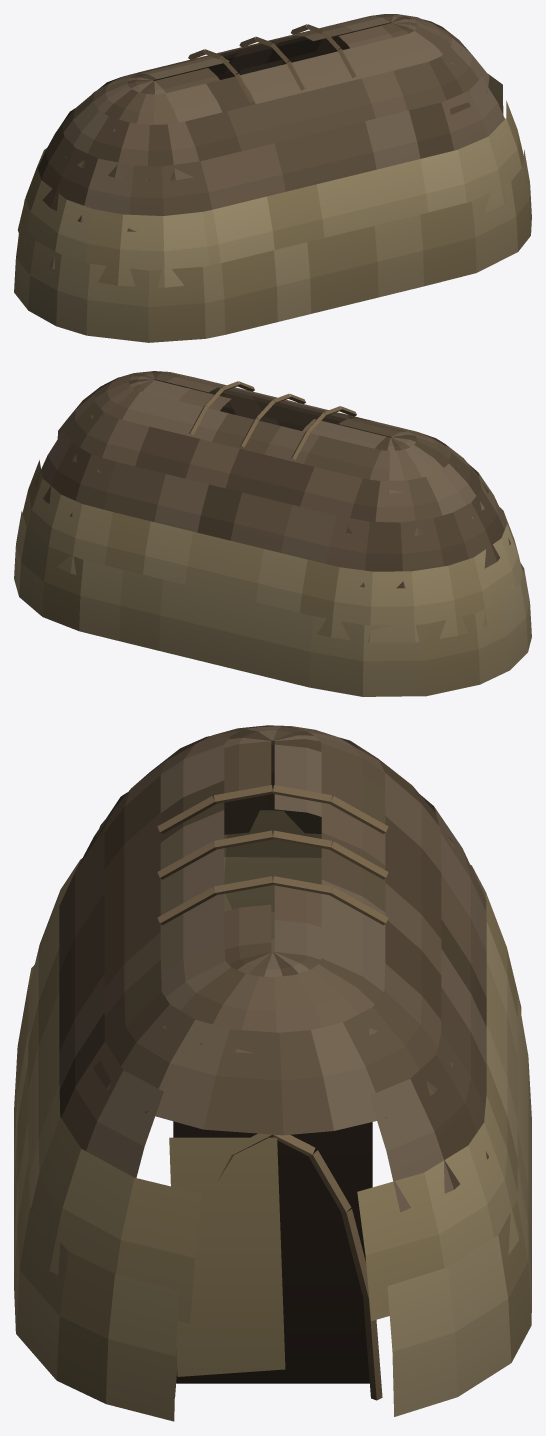
The model's file is yehakin.glb.
The picture shows the model from 3 angles, top to bottom: view 1: azimuth 30°, elevation 25°; view 2: azimuth 150°, elevation 25°; view 3: azimuth 270°, elevation 25°; orthographic projection. The views are drawn at different scales.
Parts seen in each view (by area): view 1: yehakin; view 2: yehakin; view 3: yehakin.
Boxes of the visible parts, x1,y1,x2,y2 form: yehakin: (14,14,531,342); yehakin: (14,371,531,696); yehakin: (14,725,531,1421).
Size of the model in its own units: 24 by 10.45 by 12.48.
